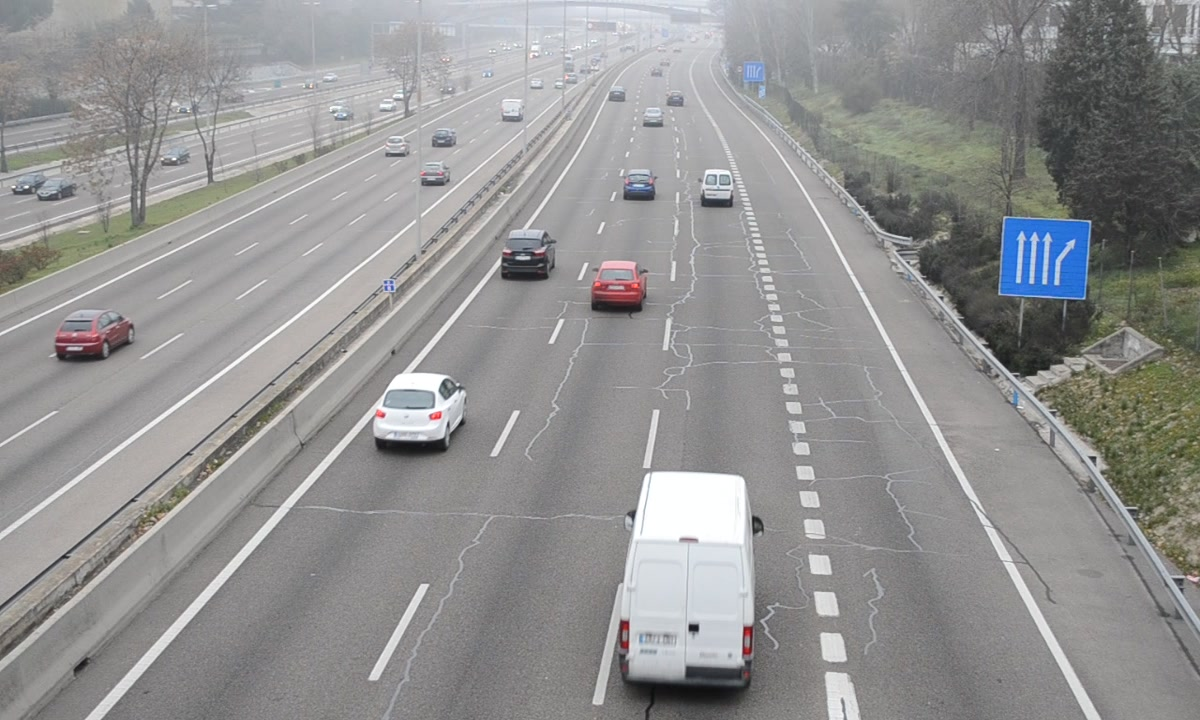car: (373, 372, 465, 443), (592, 260, 644, 308), (501, 230, 554, 276), (622, 168, 657, 202)
van: (618, 471, 756, 684), (701, 168, 736, 208)
